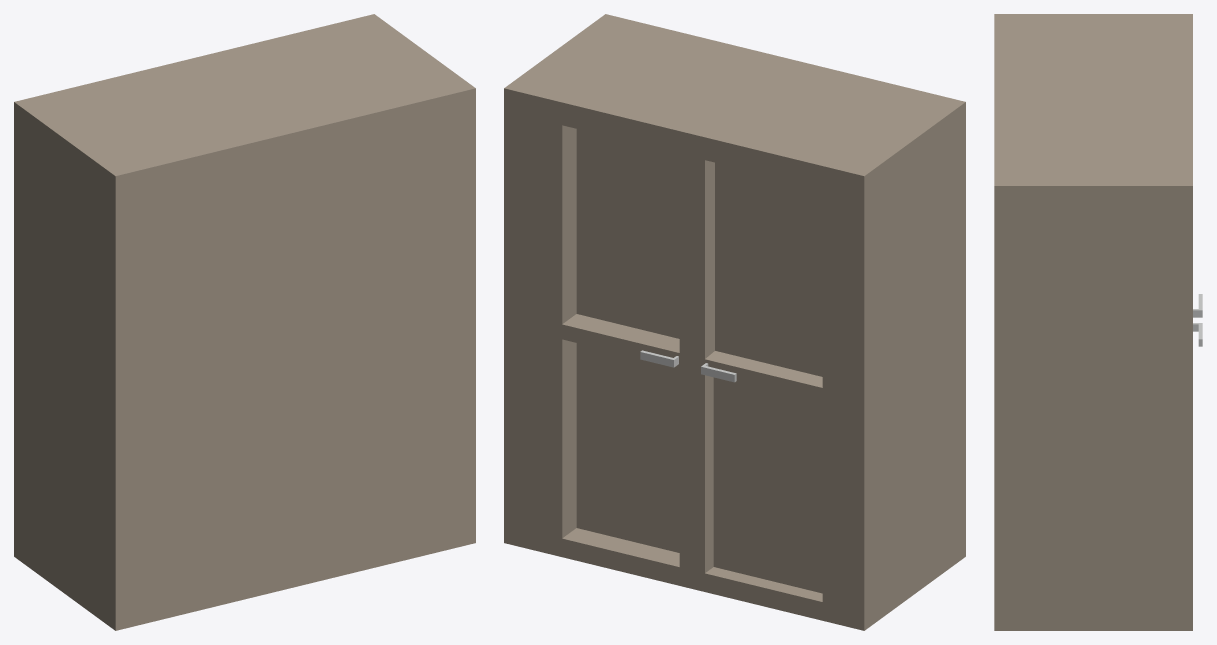
File: Wardrobe.fbx
3 renders of one model, left to right at view 1: azimuth 30°, elevation 25°; view 2: azimuth 150°, elevation 25°; view 3: azimuth 270°, elevation 25°, orthographic. The views are drawn at different scales.
Visible parts, largest first — view 1: Cube.016; view 2: Cube.016; view 3: Cube.016.
Boxes of the visible parts, x1=… form: Cube.016: x1=14, y1=14, x2=475, y2=630; Cube.016: x1=504, y1=14, x2=965, y2=630; Cube.016: x1=994, y1=14, x2=1192, y2=630.
Size of the model in its own units: 446 by 538 by 228.
